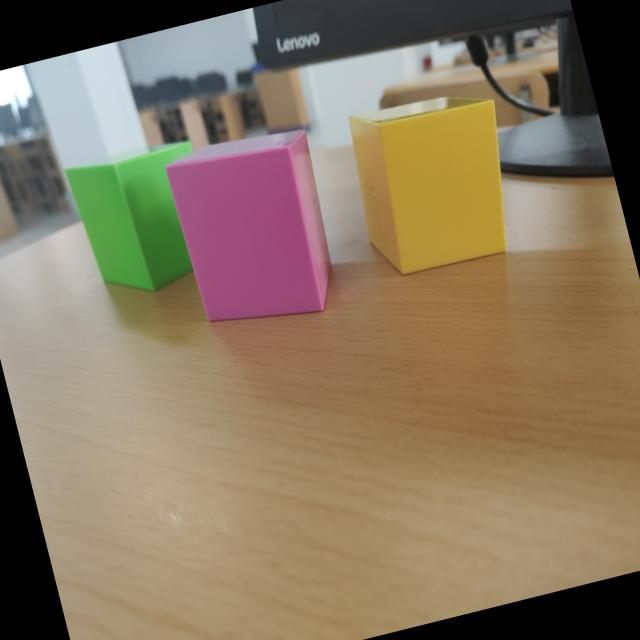green: (65, 142, 193, 293)
pink: (165, 128, 331, 323)
yellow: (349, 98, 506, 276)
